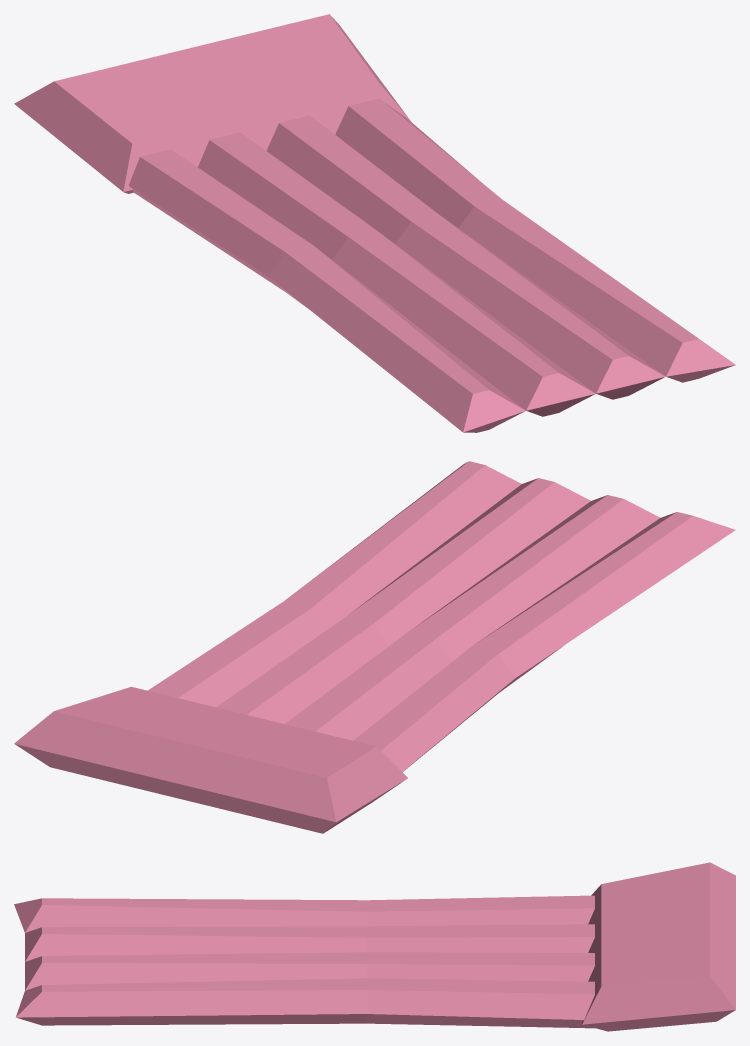
File: SwimmingMattress_B.fbx
3 renders of one model, top to bottom at view 1: azimuth 30°, elevation 25°; view 2: azimuth 150°, elevation 25°; view 3: azimuth 270°, elevation 25°, orthographic. The views are drawn at different scales.
Parts seen in each view (by area): view 1: SwimmingMattress_B; view 2: SwimmingMattress_B; view 3: SwimmingMattress_B.
Part boxes in pixels (left/top/right/bottom): SwimmingMattress_B: left=14, top=14, right=735, bottom=432; SwimmingMattress_B: left=14, top=461, right=735, bottom=833; SwimmingMattress_B: left=14, top=862, right=735, bottom=1031.
Bounding box in the file's own units: 93.04 × 19.71 × 211.
